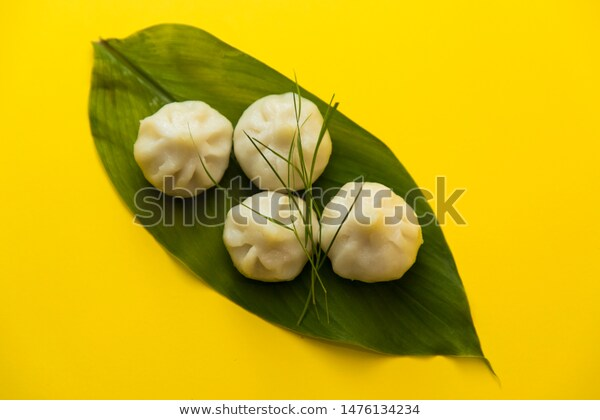modak: (317, 172, 435, 283), (235, 87, 348, 190), (132, 98, 234, 191), (224, 201, 321, 280)
